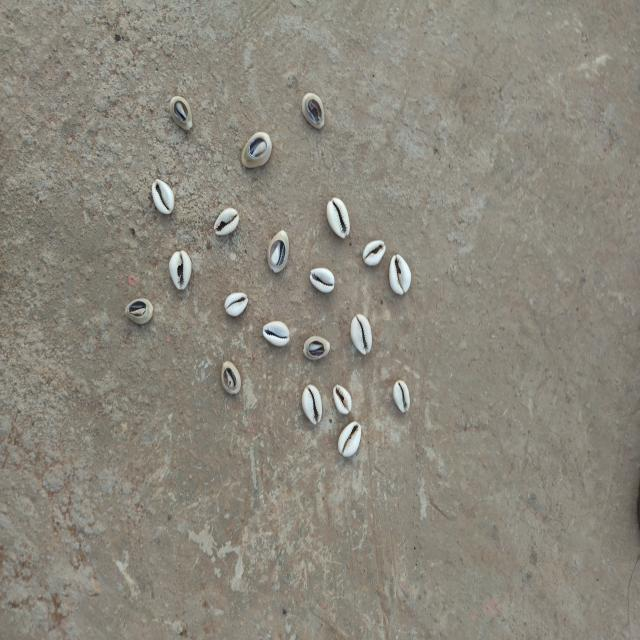facedown: (240, 129, 274, 172), (299, 89, 328, 134), (265, 227, 291, 276), (167, 92, 195, 137), (218, 358, 244, 398), (124, 294, 155, 327), (302, 334, 333, 364)
faceup: (148, 178, 177, 220), (168, 246, 193, 294), (326, 193, 351, 241), (348, 314, 376, 356), (300, 384, 325, 429), (336, 420, 364, 459), (388, 252, 412, 296), (260, 318, 292, 350), (308, 265, 338, 298), (212, 204, 241, 237), (362, 234, 388, 269), (223, 286, 250, 319), (391, 378, 414, 416), (332, 382, 354, 418)
